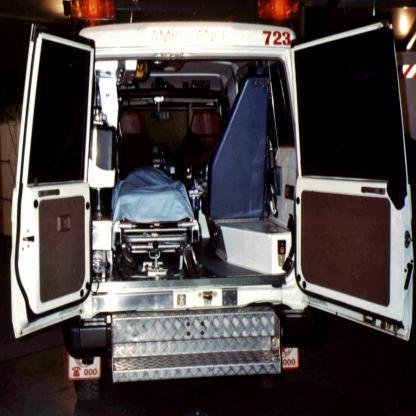Ambulance - v1 Ambulance last generate: (10, 18, 415, 397)
